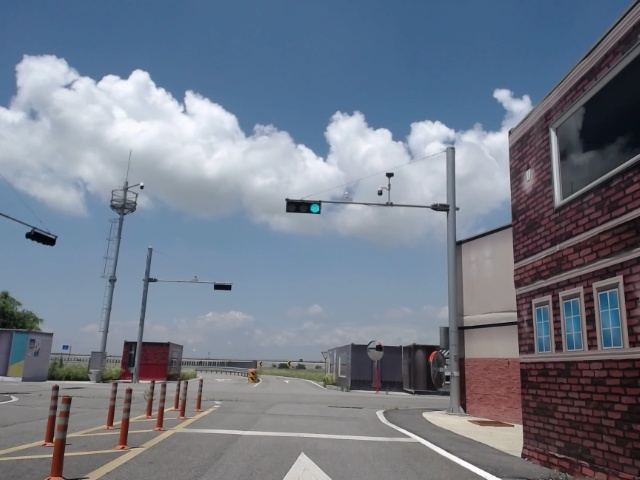green_3: (285, 197, 324, 215)
